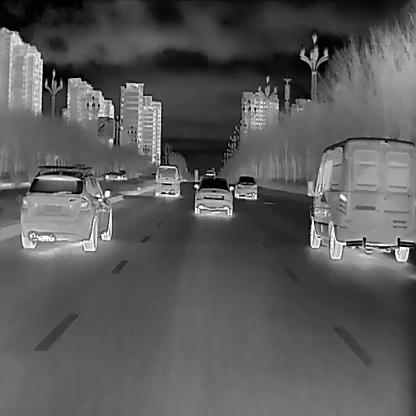car: (305, 135, 415, 262), (34, 163, 112, 252), (192, 175, 233, 215), (153, 162, 180, 197), (233, 175, 257, 199), (100, 170, 122, 180)
